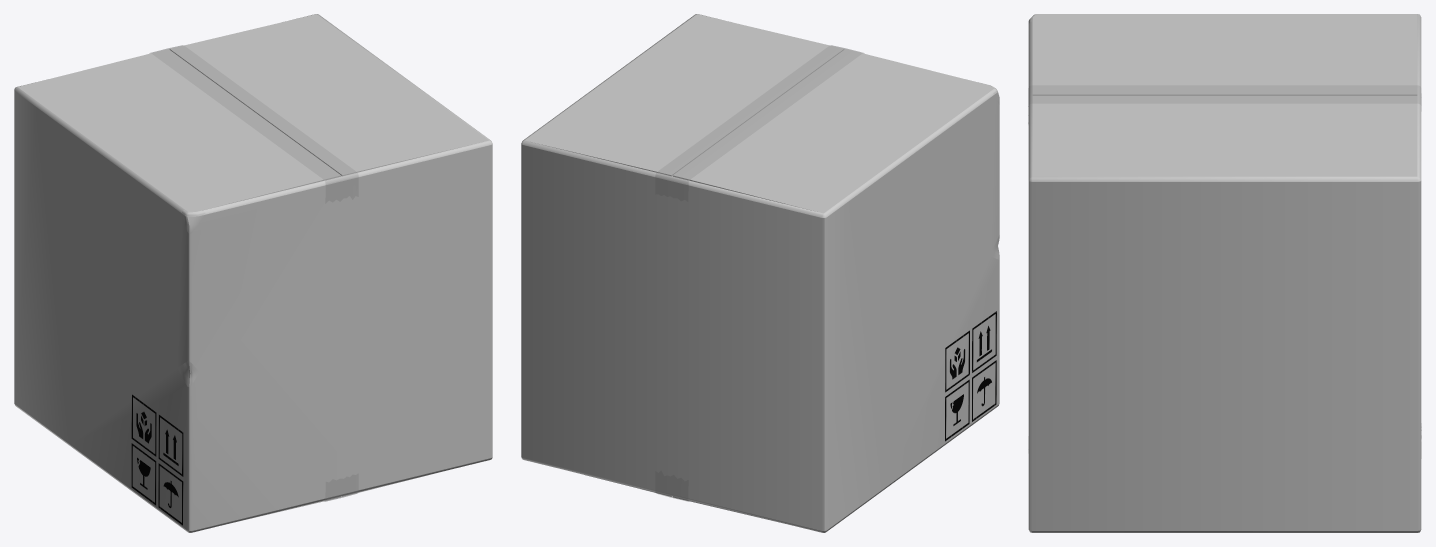
The model's file is brown_paper.FBX.
3 views of the same model, side by side, from view 1: azimuth 30°, elevation 25°; view 2: azimuth 150°, elevation 25°; view 3: azimuth 270°, elevation 25° (orthographic). The views are drawn at different scales.
Visible parts, largest first — view 1: ChamferBox001, Plane001, Plane003, Plane002; view 2: ChamferBox001, Plane001, Plane003, Plane002; view 3: ChamferBox001, Plane001.
Part boxes in pixels (x1=…): ChamferBox001: x1=14, y1=14, x2=492, y2=532; Plane001: x1=150, y1=45, x2=358, y2=203; Plane003: x1=131, y1=394, x2=183, y2=525; Plane002: x1=324, y1=474, x2=358, y2=501; ChamferBox001: x1=521, y1=14, x2=999, y2=532; Plane001: x1=655, y1=45, x2=863, y2=201; Plane003: x1=945, y1=311, x2=996, y2=441; Plane002: x1=655, y1=471, x2=689, y2=501; ChamferBox001: x1=1028, y1=14, x2=1421, y2=532; Plane001: x1=1028, y1=85, x2=1421, y2=123.
Size of the model in its own units: 25.45 by 25.63 by 25.44.
